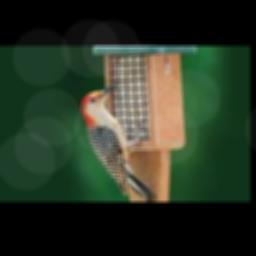Woodpecker: (81, 82, 157, 200)
